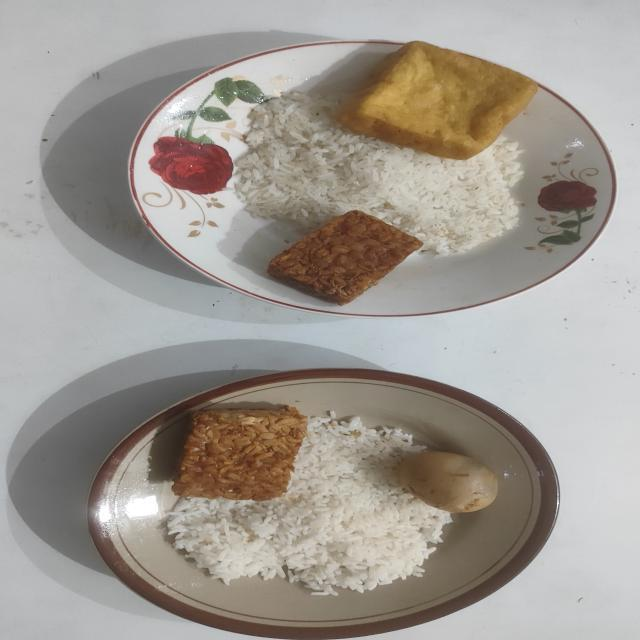nasi_putih: (166, 418, 452, 596), (236, 91, 524, 256)
tahu_goreng: (337, 42, 537, 160)
tempe_goreng: (266, 210, 422, 306), (172, 406, 307, 501)
